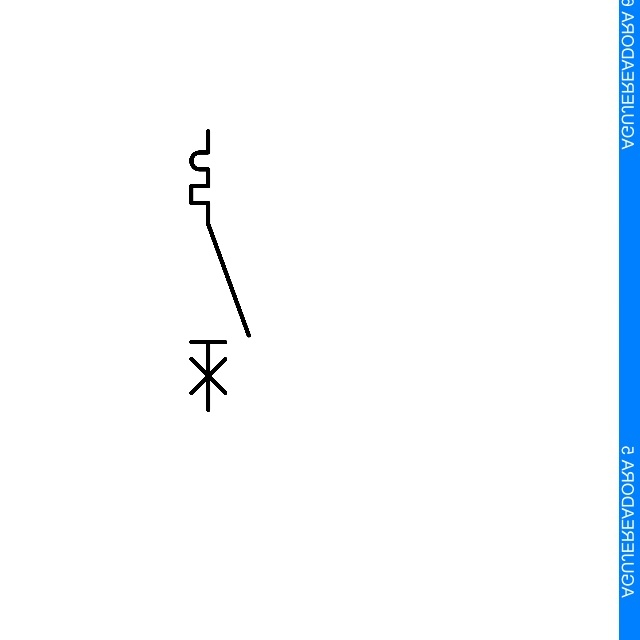interruptor_termomagnetico: (184, 124, 255, 417)
